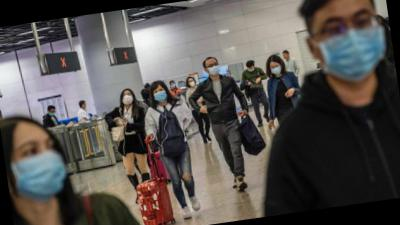with_mask: (313, 5, 392, 87), (7, 134, 69, 205), (153, 87, 168, 105), (206, 62, 220, 78), (270, 63, 284, 77), (121, 91, 134, 106), (188, 79, 196, 88), (49, 109, 56, 117), (247, 67, 256, 73), (82, 102, 88, 111), (171, 83, 176, 90)
without_mask: (283, 53, 290, 62)
